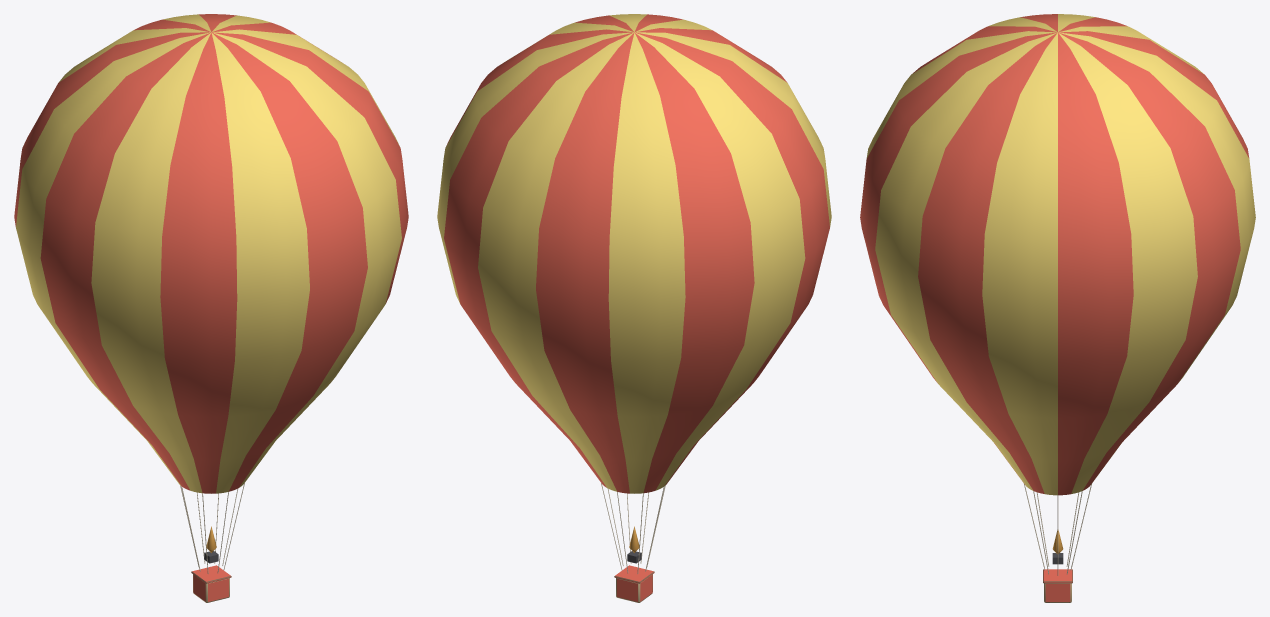
File: SM_HotAirBalloon_A.fbx
3 views of the same model, side by side, from view 1: azimuth 30°, elevation 25°; view 2: azimuth 150°, elevation 25°; view 3: azimuth 270°, elevation 25° (orthographic).
Parts seen in each view (by area): view 1: SM_HotAirBalloon_A; view 2: SM_HotAirBalloon_A; view 3: SM_HotAirBalloon_A.
Part boxes in pixels (bbox=[...]): SM_HotAirBalloon_A: bbox=[14, 14, 408, 602]; SM_HotAirBalloon_A: bbox=[437, 14, 831, 602]; SM_HotAirBalloon_A: bbox=[860, 14, 1255, 602].
Bounding box in the file's own units: 1840 × 2900 × 1840.
